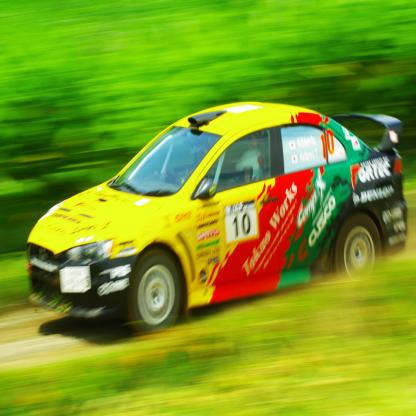Car: (26, 98, 410, 340)
